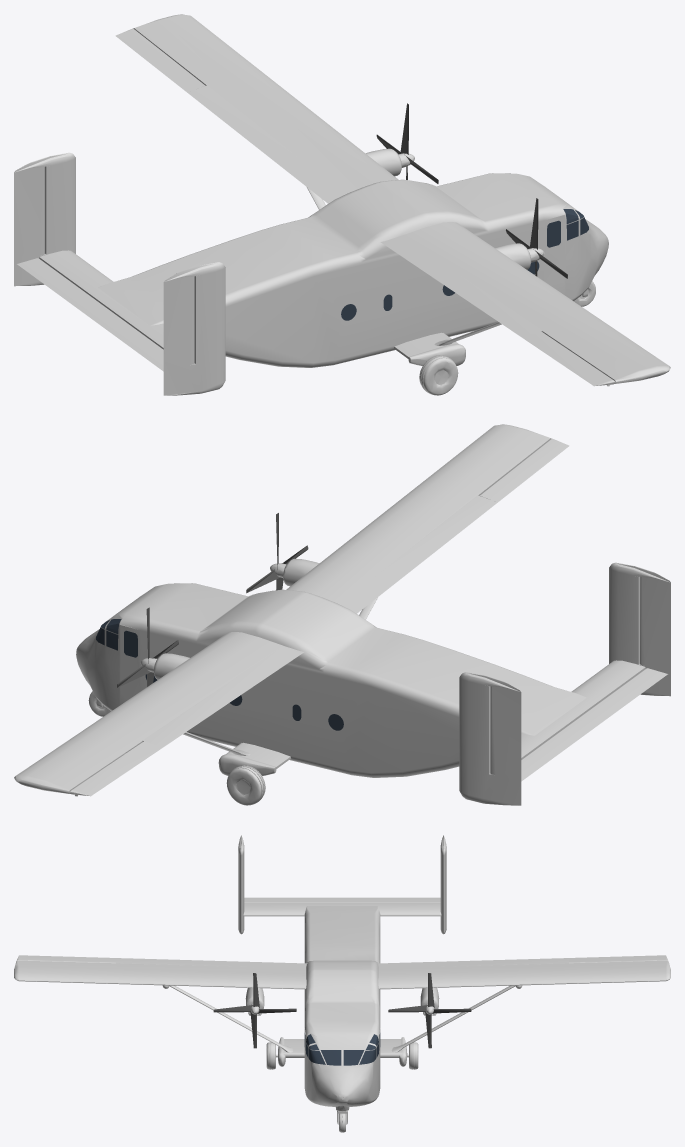
3 views of the same model, one above another, from view 1: azimuth 30°, elevation 25°; view 2: azimuth 150°, elevation 25°; view 3: azimuth 270°, elevation 25° (orthographic). The views are drawn at different scales.
Parts seen in each view (by area): view 1: body, glass, spin (×2); view 2: body, glass, spin (×2); view 3: body, spin (×2), glass.
Boxes of the visible parts, <box> form: body: <box>14,14,670,395</box>; glass: <box>341,209,588,320</box>; spin (×2): <box>376,103,567,278</box>; body: <box>14,424,670,805</box>; glass: <box>96,619,343,730</box>; spin (×2): <box>117,513,308,687</box>; body: <box>14,835,670,1132</box>; spin (×2): <box>213,973,471,1048</box>; glass: <box>304,1033,380,1065</box>.
Bounding box in the file's own units: 1.35 × 0.5204 × 2.2.
